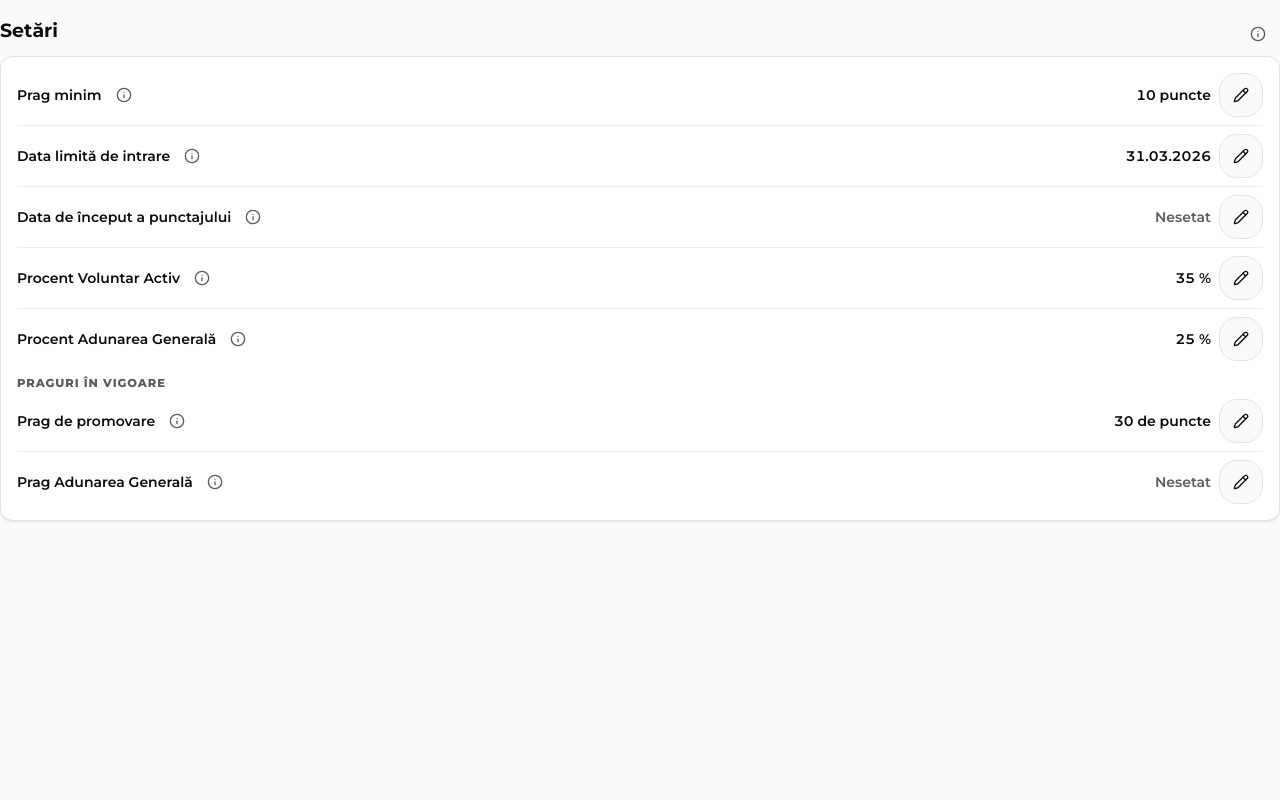
it: says in its hint that a run uses the Prag minim and the Data limită de intrare set here
expect the heading "Prag minim" is shown: met, box [17,85,102,105]
Step 1. Click the button named "Despre setări" → (1258, 34), box [1236,12,1279,56]
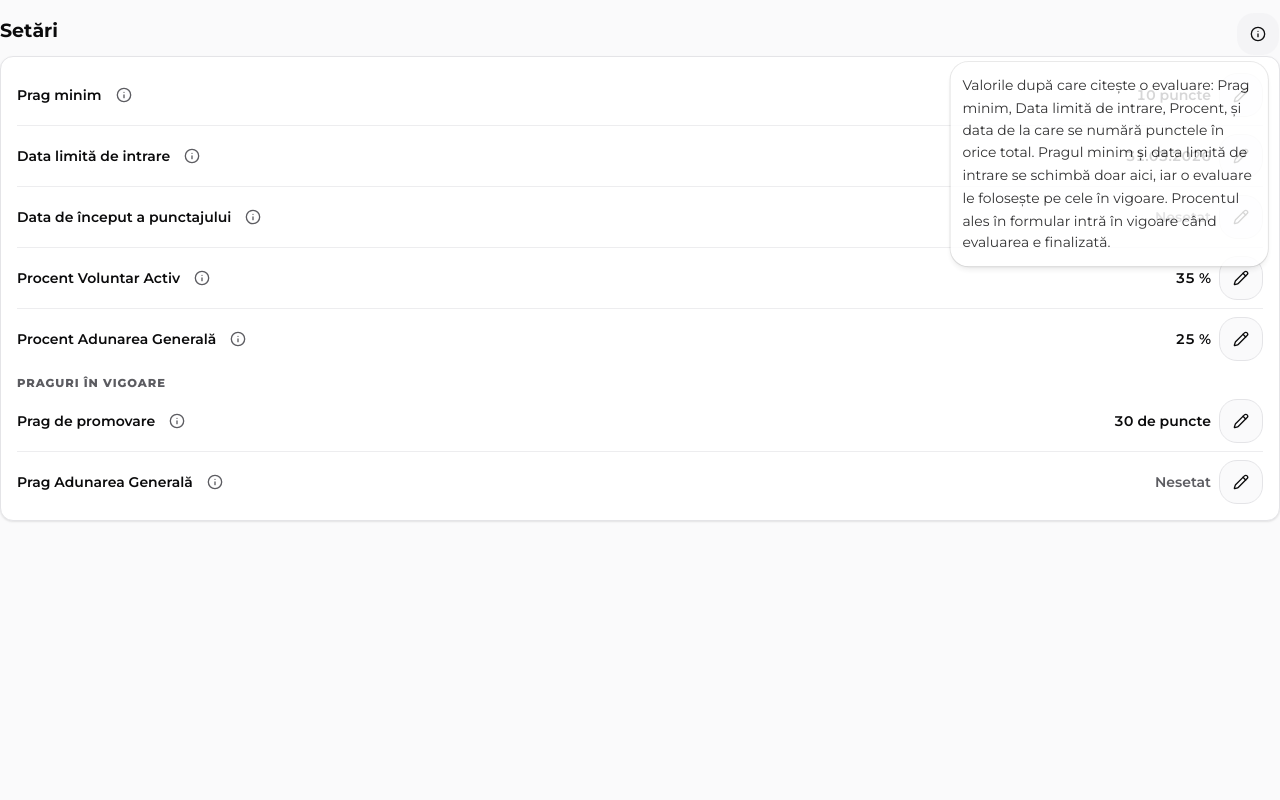
expect the text "Valorile după care citește" does not show "din formular și": met, box [948,62,1268,268]
expect the text "Valorile după care citește" shows "Valorile după care citește o evaluare: Prag minim, Data limită de intrare, Procent, și data de la care se numără punctele în orice total. Pragul minim și data l": met, box [960,76,1252,253]
